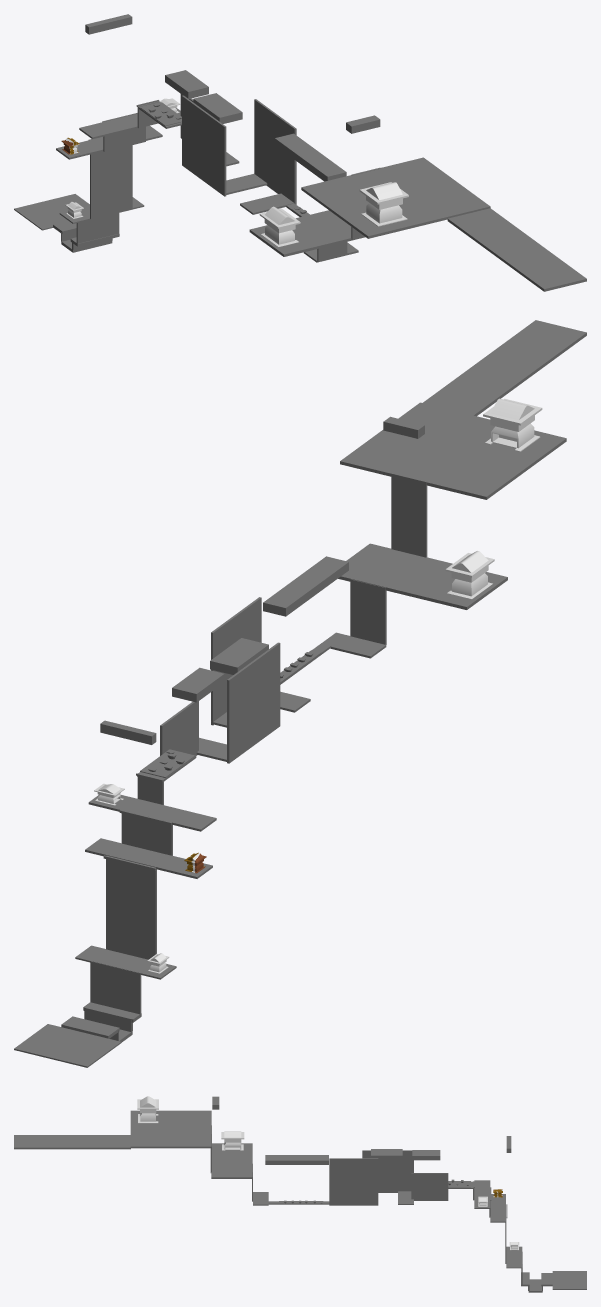
File: WallsFloors.fbx
3 views of the same model, one above another, from view 1: azimuth 30°, elevation 25°; view 2: azimuth 150°, elevation 25°; view 3: azimuth 270°, elevation 25° (orthographic). The views are drawn at different scales.
Parts seen in each view (by area): view 1: Floor5__10_, Floor5__11_, WallLateral__2_, WallLateral__1_, wall3, Floor5__9_, SpawnEnemy_4, SpawnIce__4_, Floor0, SpawnEnemy_3, wall2, SpawnIce__2_ (+11 smaller); view 2: Floor5__10_, Floor5__11_, Floor5__9_, wall3, WallLateral__2_, wall1__4_, Floor0, WallLateral__1_, SpawnIce__4_, wall2, wall1__3_, SpawnEnemy_4 (+8 smaller); view 3: Floor5__10_, WallLateral__1_, Floor5__11_, Floor5__9_, WallLateral__2_, WallLateral, Floor0, SpawnIce__4_, SpawnEnemy_4, Floor5__1_, SpawnEnemy_3, Floor5__2_ (+3 smaller).
Boxes of the visible parts, x1=… form: Floor5__10_: x1=301, y1=157, x2=490, y2=238; Floor5__11_: x1=447, y1=208, x2=586, y2=291; WallLateral__2_: x1=182, y1=95, x2=226, y2=196; WallLateral__1_: x1=254, y1=99, x2=296, y2=204; wall3: x1=90, y1=145, x2=132, y2=219; Floor5__9_: x1=249, y1=210, x2=351, y2=256; SpawnEnemy_4: x1=359, y1=182, x2=408, y2=226; SpawnIce__4_: x1=275, y1=133, x2=346, y2=181; Floor0: x1=14, y1=194, x2=89, y2=230; SpawnEnemy_3: x1=259, y1=206, x2=300, y2=247; wall2: x1=76, y1=213, x2=119, y2=243; SpawnIce__2_: x1=193, y1=93, x2=242, y2=123; Floor5__10_: x1=340, y1=402, x2=566, y2=499; Floor5__11_: x1=423, y1=320, x2=586, y2=416; Floor5__9_: x1=338, y1=543, x2=507, y2=609; wall3: x1=106, y1=855, x2=156, y2=959; WallLateral__2_: x1=227, y1=642, x2=280, y2=763; wall1__4_: x1=391, y1=472, x2=427, y2=557; Floor0: x1=14, y1=1024, x2=121, y2=1067; WallLateral__1_: x1=211, y1=597, x2=261, y2=725; SpawnIce__4_: x1=263, y1=556, x2=348, y2=616; wall2: x1=90, y1=961, x2=141, y2=1014; wall1__3_: x1=350, y1=579, x2=386, y2=644; SpawnEnemy_4: x1=483, y1=398, x2=542, y2=451; Floor5__10_: x1=130, y1=1110, x2=211, y2=1148; WallLateral__1_: x1=329, y1=1158, x2=378, y2=1205; Floor5__11_: x1=14, y1=1135, x2=130, y2=1149; Floor5__9_: x1=211, y1=1143, x2=252, y2=1178; WallLateral__2_: x1=362, y1=1150, x2=413, y2=1192; WallLateral: x1=411, y1=1173, x2=448, y2=1200; Floor0: x1=552, y1=1271, x2=586, y2=1289; SpawnIce__4_: x1=265, y1=1155, x2=328, y2=1164; SpawnEnemy_4: x1=137, y1=1096, x2=158, y2=1123; Floor5__1_: x1=490, y1=1194, x2=505, y2=1222; SpawnEnemy_3: x1=221, y1=1131, x2=244, y2=1150; Floor5__2_: x1=474, y1=1180, x2=490, y2=1208.
Size of the model in its own units: 4835 by 10349 by 28353.
3 materials, 1 textured.
